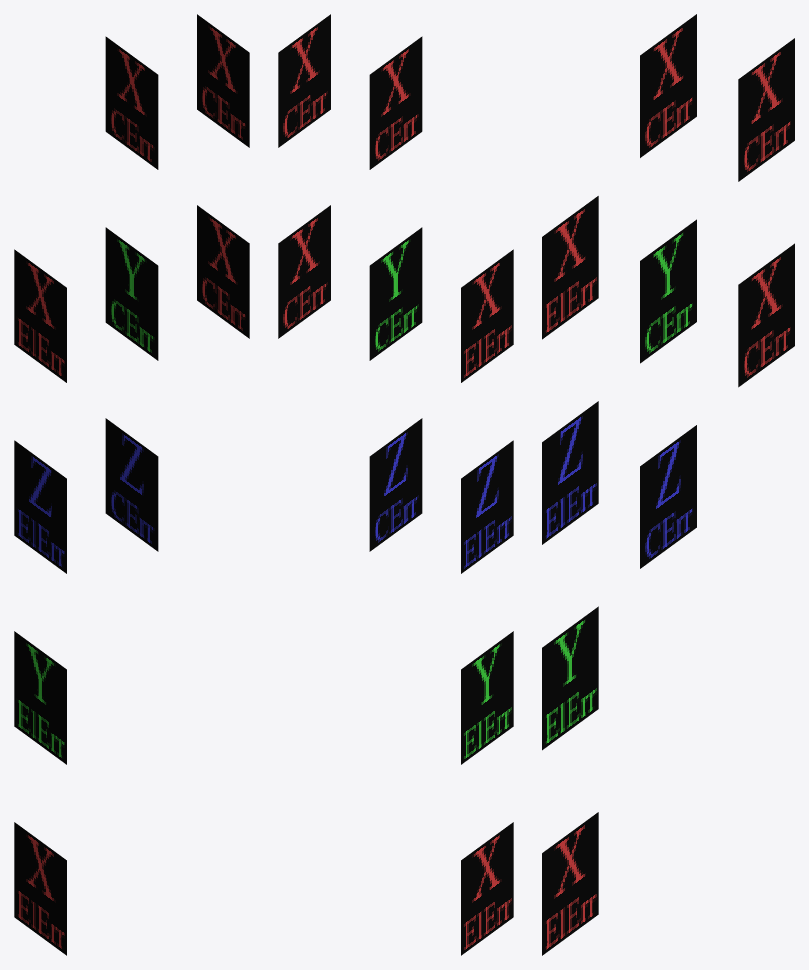
File: noise_gates_2.gltf
3 views of the same model, side by side, from view 1: azimuth 30°, elevation 25°; view 2: azimuth 150°, elevation 25°; view 3: azimuth 330°, elevation 25° (orthographic). The views are drawn at different scales.
Bounding box in the file's own units: 2 × 9 × 1.
Materials: 1 (1 with a texture image).
